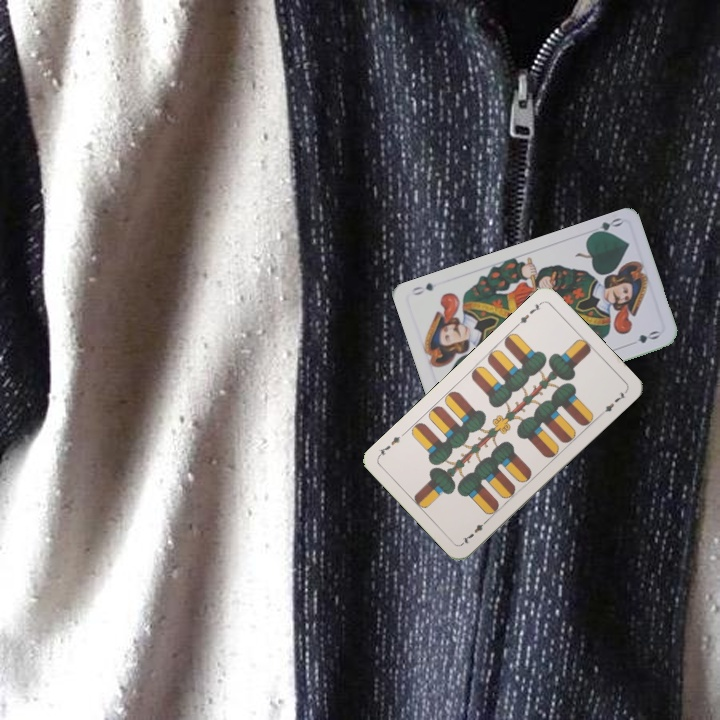E7: (458, 515, 491, 547), (512, 298, 545, 329)
GO: (586, 213, 625, 238)
